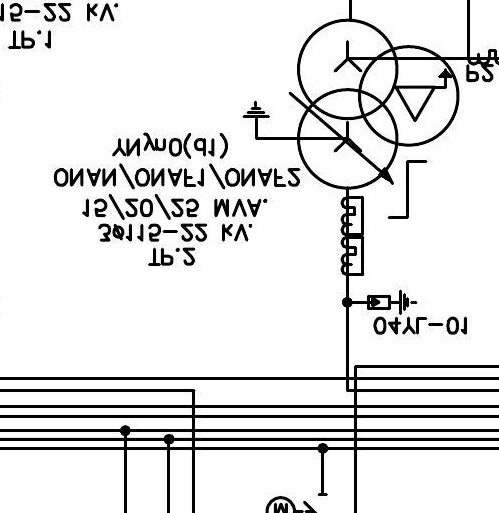11522_tx_ynyn0d1: (296, 17, 461, 191)
115_la: (366, 289, 418, 316)
